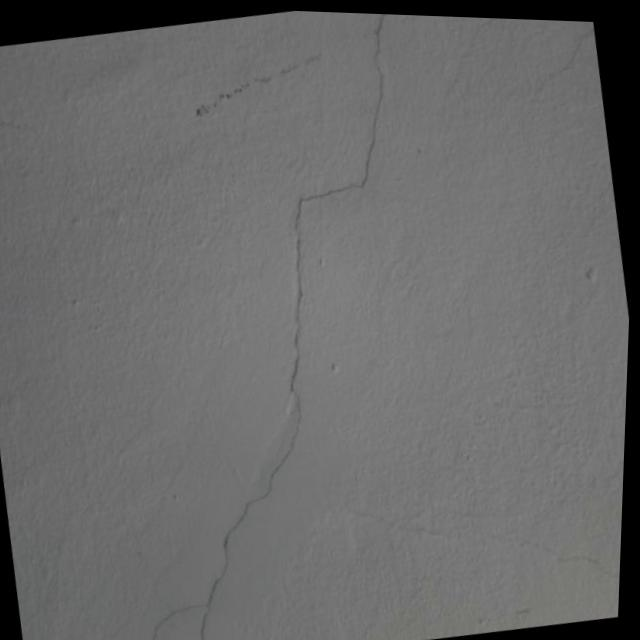Crack: (27, 1, 509, 640)
